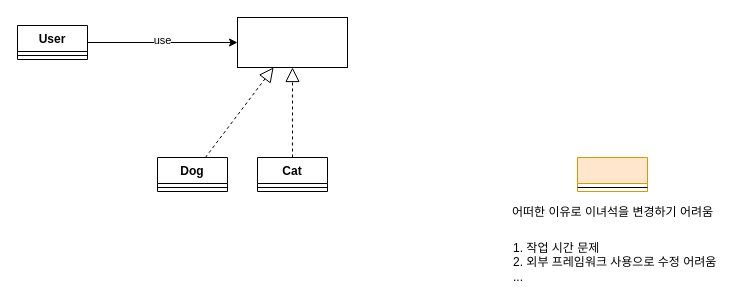
The diagram is 735 pixels wide and 305 high, and some of its shapes have lost their labels. Each missing label, with the centre of its shape:
Tiger: the point at 612,174
«interface» Animal: the point at 292,42
